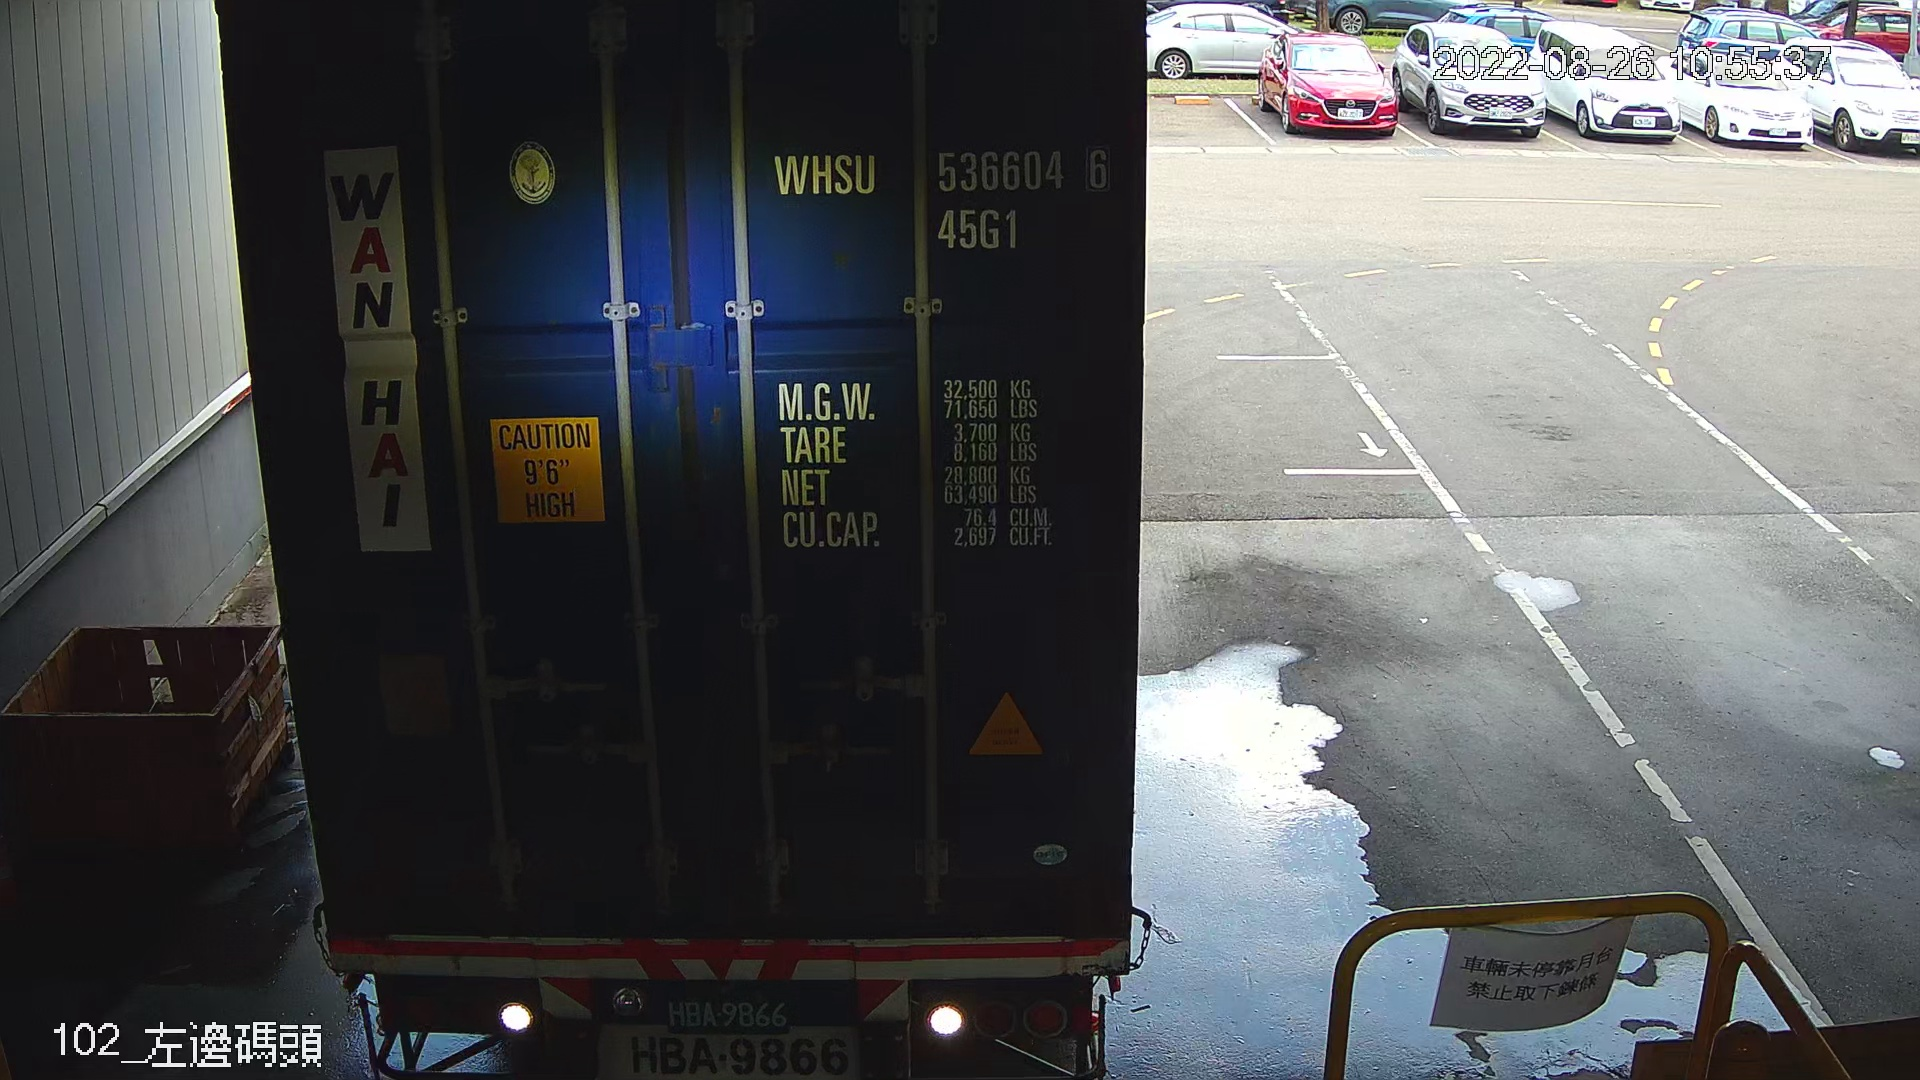container: (760, 127, 1122, 262)
